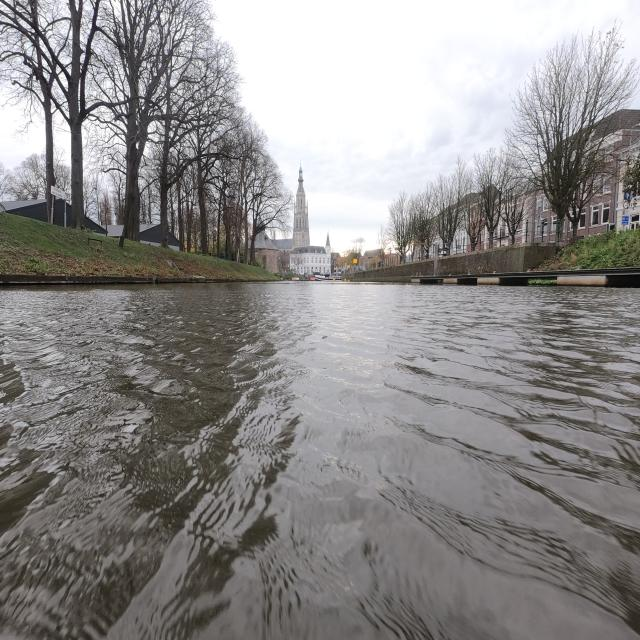dock: (411, 268, 640, 288), (0, 273, 245, 285)
grass: (0, 214, 276, 280), (536, 229, 640, 270)
sky: (213, 0, 640, 251)
wall: (437, 244, 561, 276), (346, 259, 433, 281)
water: (0, 282, 640, 640)
